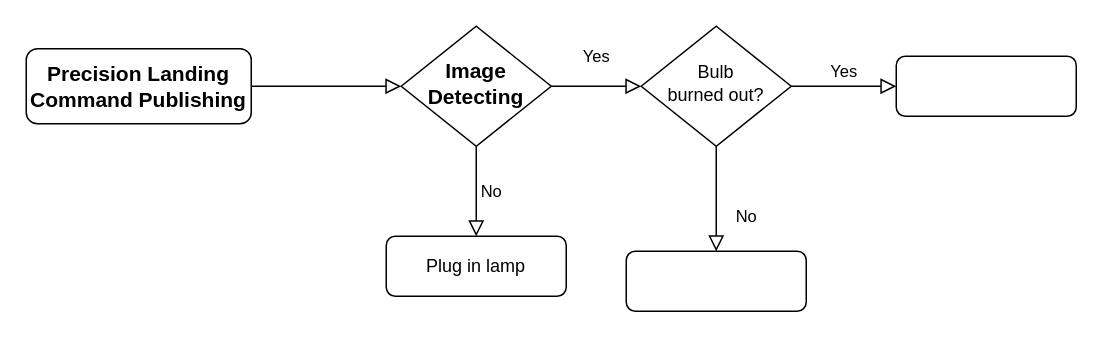
Some shapes in this 1103 by 338 pixel diagram are drawn without their labels. The box of each missing label's shape, as (x1, y1, x2, y2) in pixels:
Repair Lamp: (625, 250, 806, 311)
Replace Bulb: (895, 55, 1076, 116)
